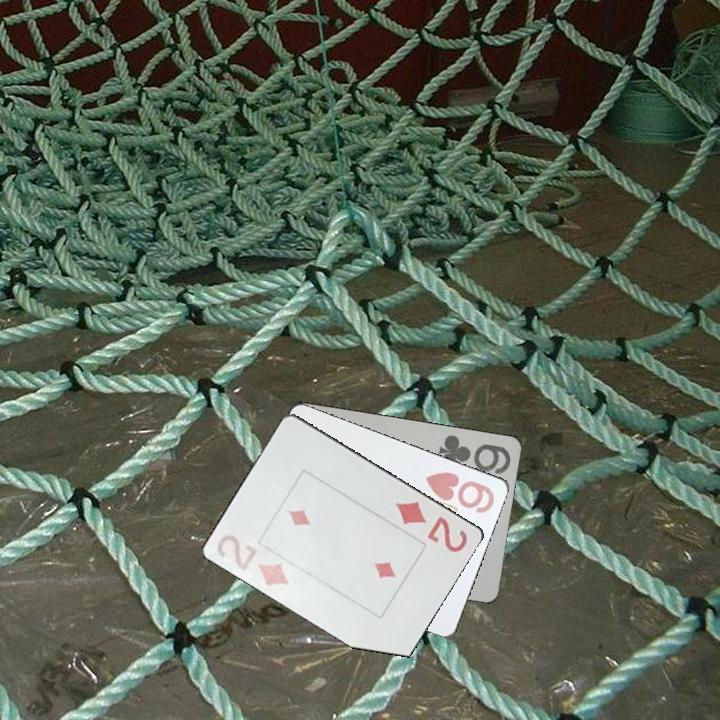2d: (212, 531, 296, 591), (392, 498, 473, 555)
6c: (435, 431, 514, 476)
6h: (422, 468, 498, 516)
